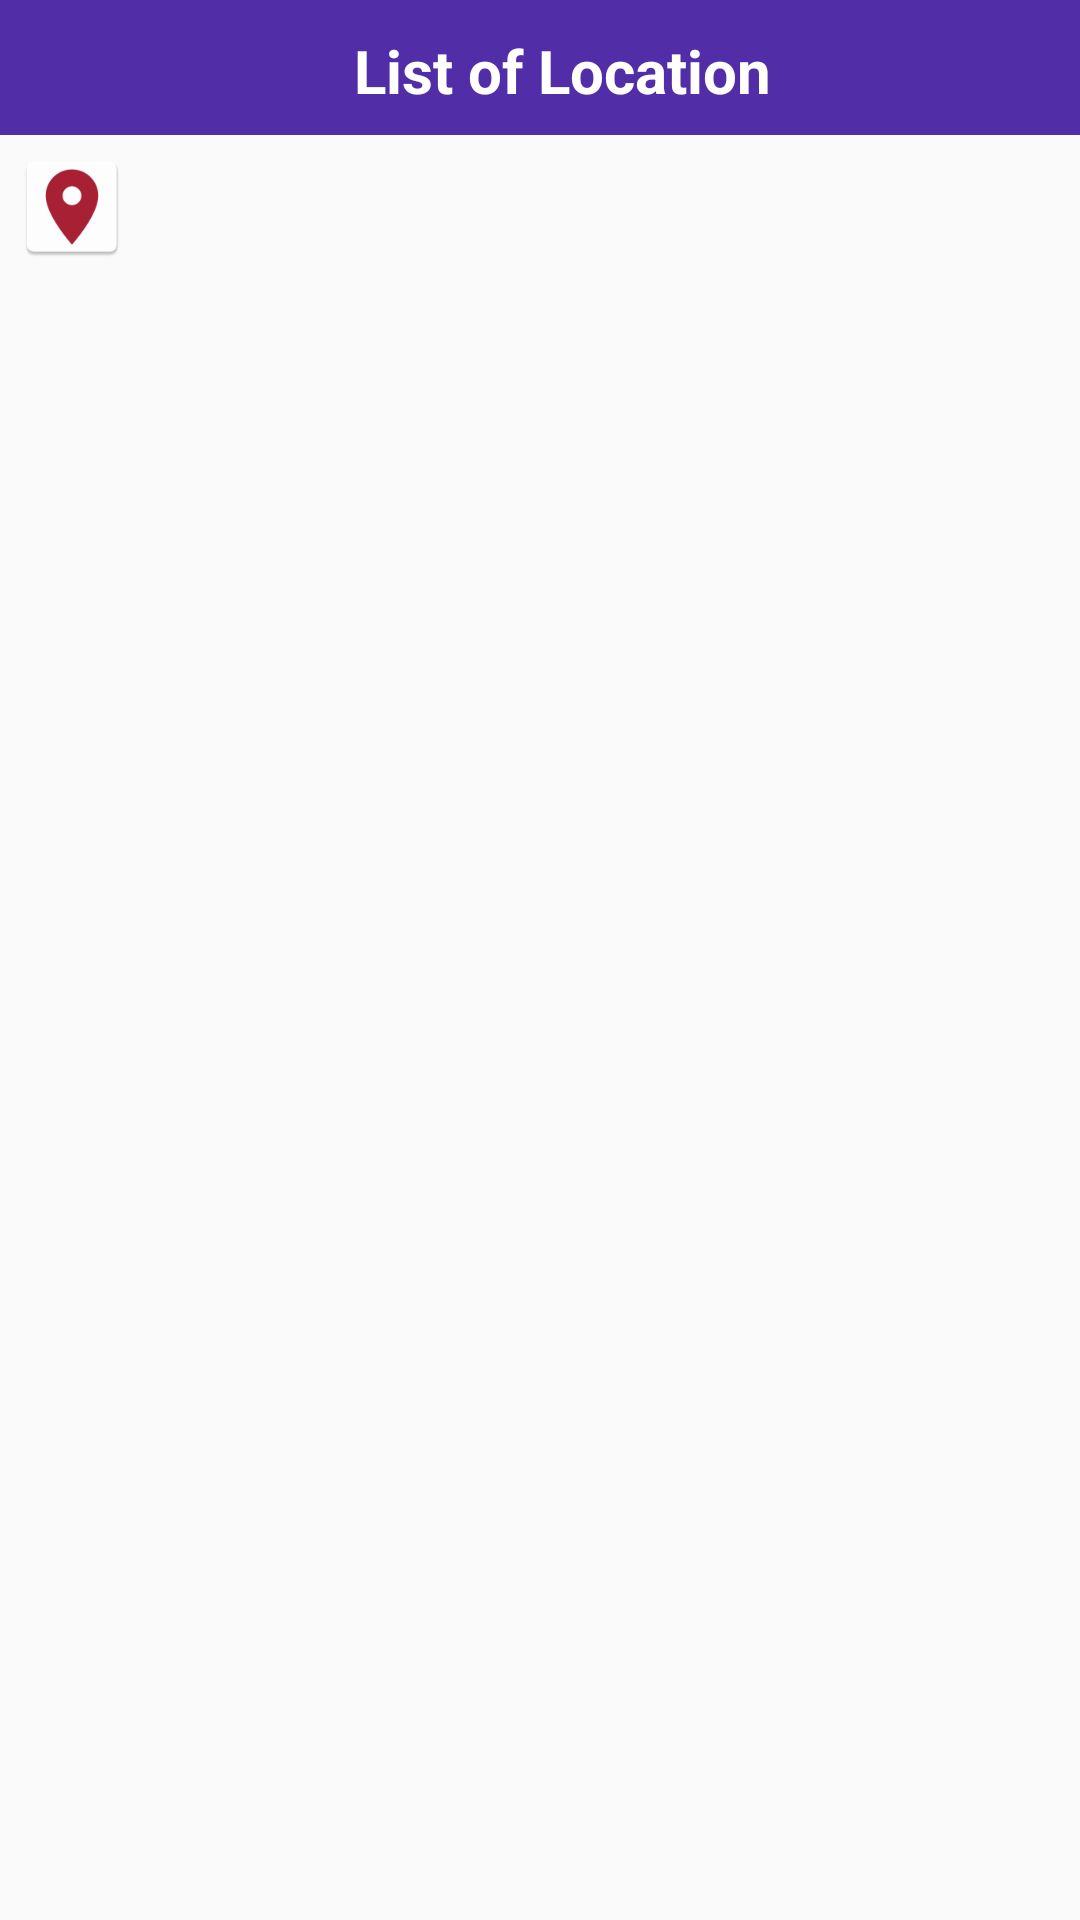

Screen size 1080px×1920px. Icon name, then its center in pixels as point (x, y):
loc: point (72, 212)
